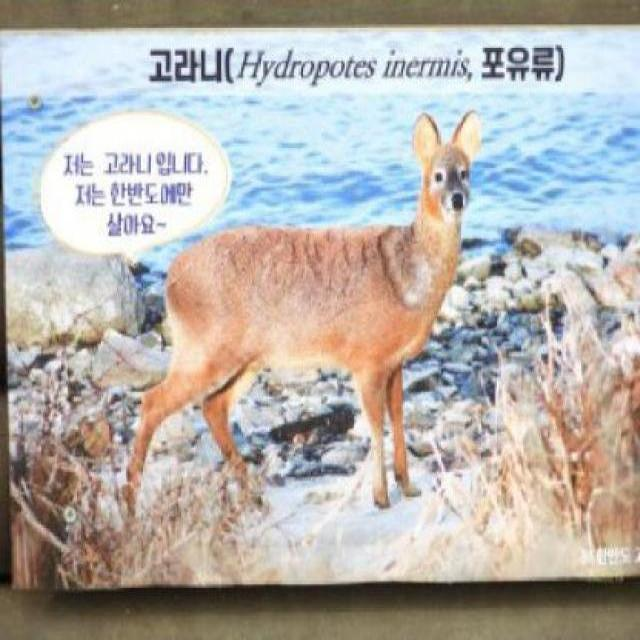deer: (231, 106, 484, 369)
